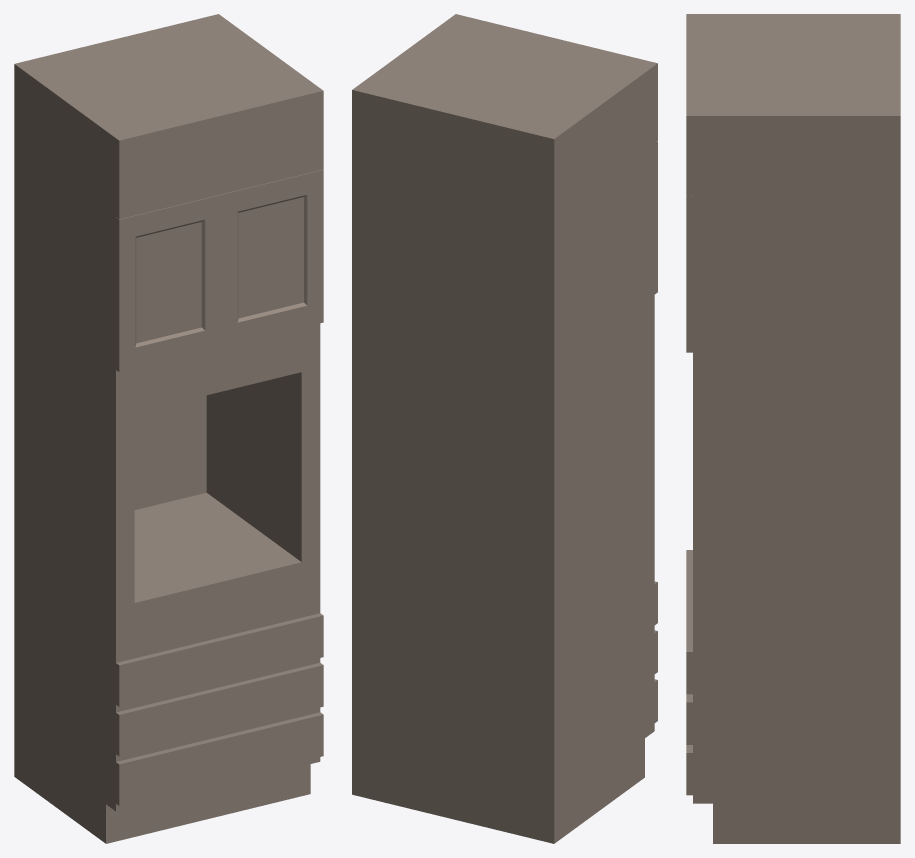
File: Oven-Cabinet-24-Deep_std_001_W27in_2D.glb
3 views of the same model, side by side, from view 1: azimuth 30°, elevation 25°; view 2: azimuth 150°, elevation 25°; view 3: azimuth 270°, elevation 25° (orthographic). The views are drawn at different scales.
Parts seen in each view (by area): view 1: Oven-Cabinet-24-Deep.std.001_W27in_2D; view 2: Oven-Cabinet-24-Deep.std.001_W27in_2D; view 3: Oven-Cabinet-24-Deep.std.001_W27in_2D.
Part boxes in pixels (x1=…): Oven-Cabinet-24-Deep.std.001_W27in_2D: x1=14, y1=14, x2=323, y2=843; Oven-Cabinet-24-Deep.std.001_W27in_2D: x1=352, y1=14, x2=657, y2=843; Oven-Cabinet-24-Deep.std.001_W27in_2D: x1=686, y1=14, x2=900, y2=843.
Bounding box in the file's own units: 0.6858 × 2.29 × 0.6096.
